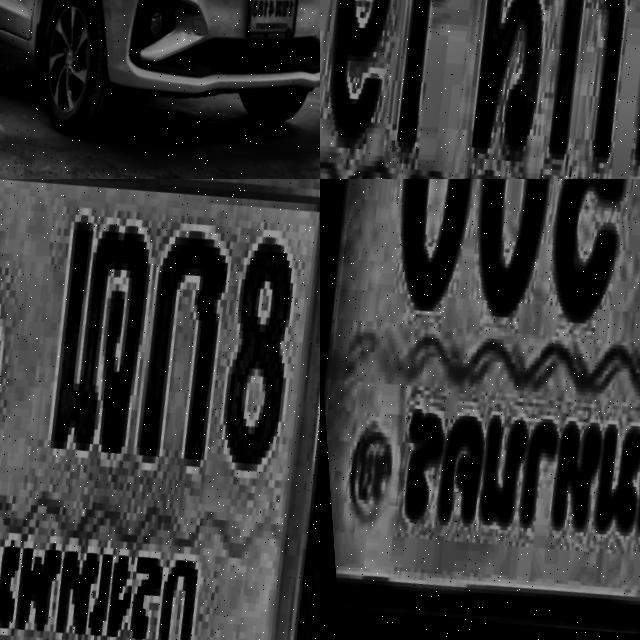license-plate: (0, 179, 320, 640), (320, 179, 640, 640), (320, 0, 640, 179), (233, 0, 292, 58)
